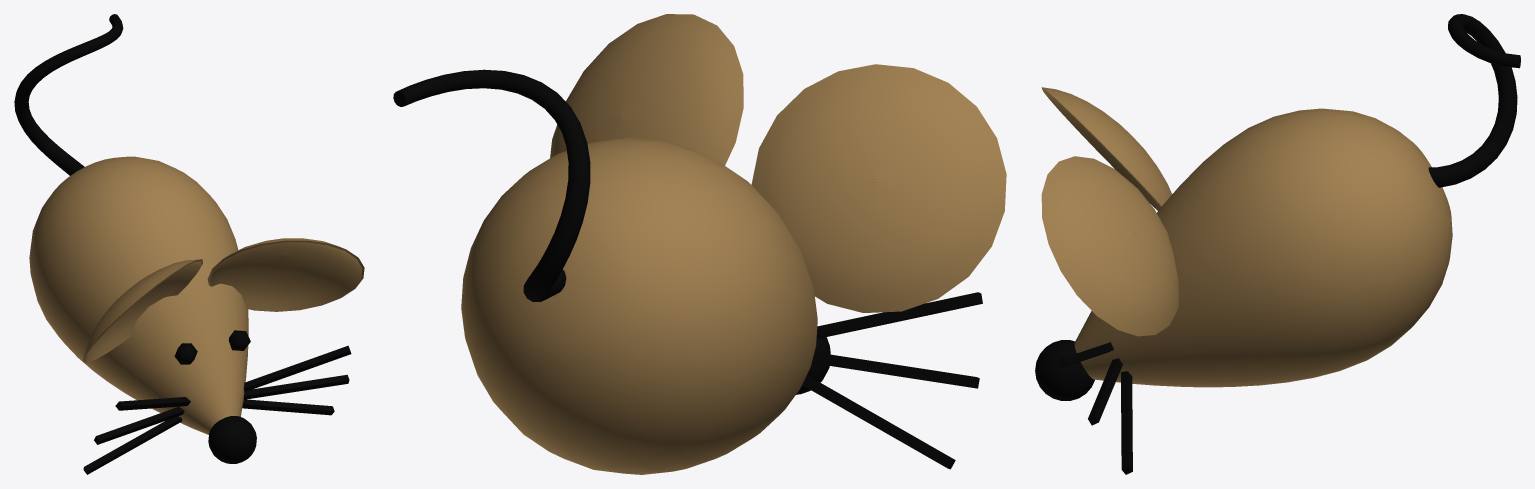
Rendered from mouse_cute.FBX.
3 renders of one model, left to right at view 1: azimuth 30°, elevation 25°; view 2: azimuth 150°, elevation 25°; view 3: azimuth 270°, elevation 25°, orthographic. The views are drawn at different scales.
Visible parts, largest first — view 1: BADY, R-R, R-L, WAI, BI, I01, I02, I06, I03, I04, I05, IS-L; view 2: BADY, R-L, R-R, WAI, I05, I06, I04; view 3: BADY, R-R, WAI, R-L, BI, I03, I02, I01.
Part boxes in pixels (<box>): BADY: <box>29,156,248,434</box>; R-R: <box>207,238,364,311</box>; R-L: <box>82,259,202,362</box>; WAI: <box>14,14,123,175</box>; BI: <box>208,416,256,463</box>; I01: <box>243,345,351,392</box>; I02: <box>243,374,349,399</box>; I06: <box>83,416,182,474</box>; I03: <box>242,399,334,415</box>; I04: <box>94,406,184,444</box>; I05: <box>115,397,190,410</box>; IS-L: <box>174,343,197,364</box>; BADY: <box>461,137,817,474</box>; R-L: <box>751,64,1006,312</box>; R-R: <box>550,14,743,165</box>; WAI: <box>393,69,590,301</box>; I05: <box>816,292,982,338</box>; I06: <box>802,375,955,469</box>; I04: <box>812,352,979,388</box>; BADY: <box>1074,108,1452,387</box>; R-R: <box>1041,156,1178,336</box>; WAI: <box>1428,14,1520,187</box>; R-L: <box>1041,87,1172,210</box>; BI: <box>1035,340,1094,400</box>; I03: <box>1121,371,1132,474</box>; I02: <box>1088,358,1122,425</box>; I01: <box>1057,342,1113,367</box>.
Size of the model in its own units: 153 by 165 by 189.
